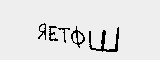М: (19, 17, 46, 36)
С: (81, 20, 101, 39)
Т: (64, 18, 83, 38)
Ч: (45, 18, 67, 38)
Э: (120, 20, 137, 38)
Ң: (98, 21, 119, 41)
